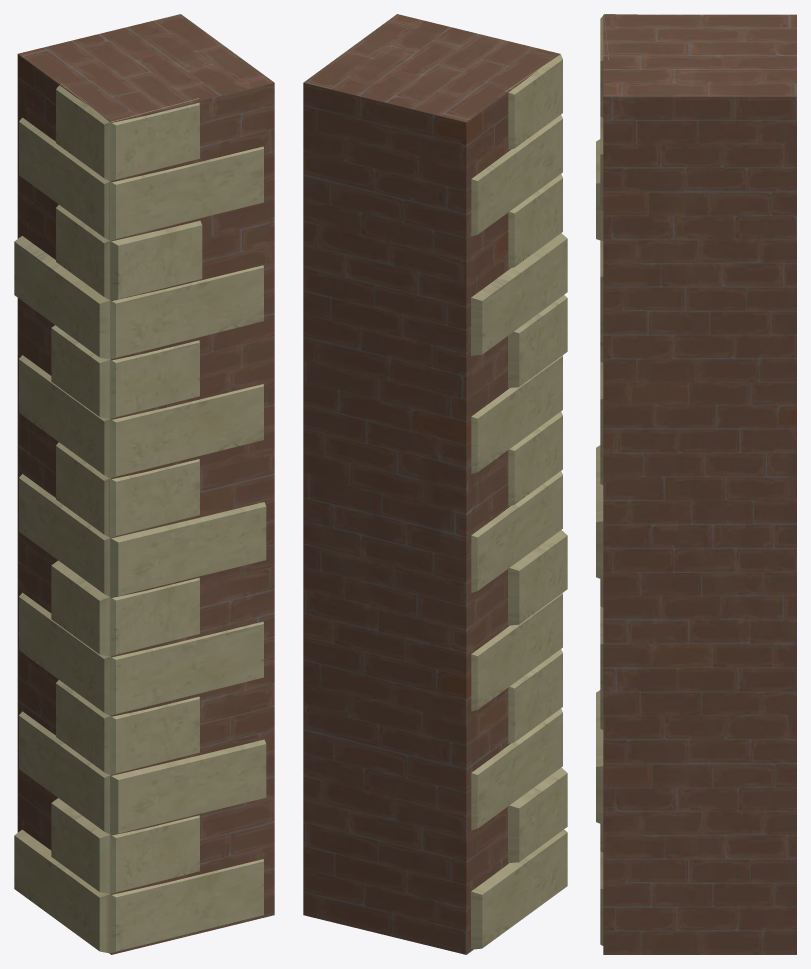
File: Brick_Column_TrimBricks.glb
3 views of the same model, side by side, from view 1: azimuth 30°, elevation 25°; view 2: azimuth 150°, elevation 25°; view 3: azimuth 270°, elevation 25° (orthographic). The views are drawn at different scales.
Visible parts, largest first — view 1: Brick_Column_TrimBricks; view 2: Brick_Column_TrimBricks; view 3: Brick_Column_TrimBricks.
Part boxes in pixels (left/top/right/bottom): Brick_Column_TrimBricks: left=14, top=14, right=274, bottom=954; Brick_Column_TrimBricks: left=303, top=14, right=567, bottom=954; Brick_Column_TrimBricks: left=596, top=14, right=796, bottom=954.
Bounding box in the file's own units: 0.6515 × 3 × 0.6359.
2 materials, 2 textured.
